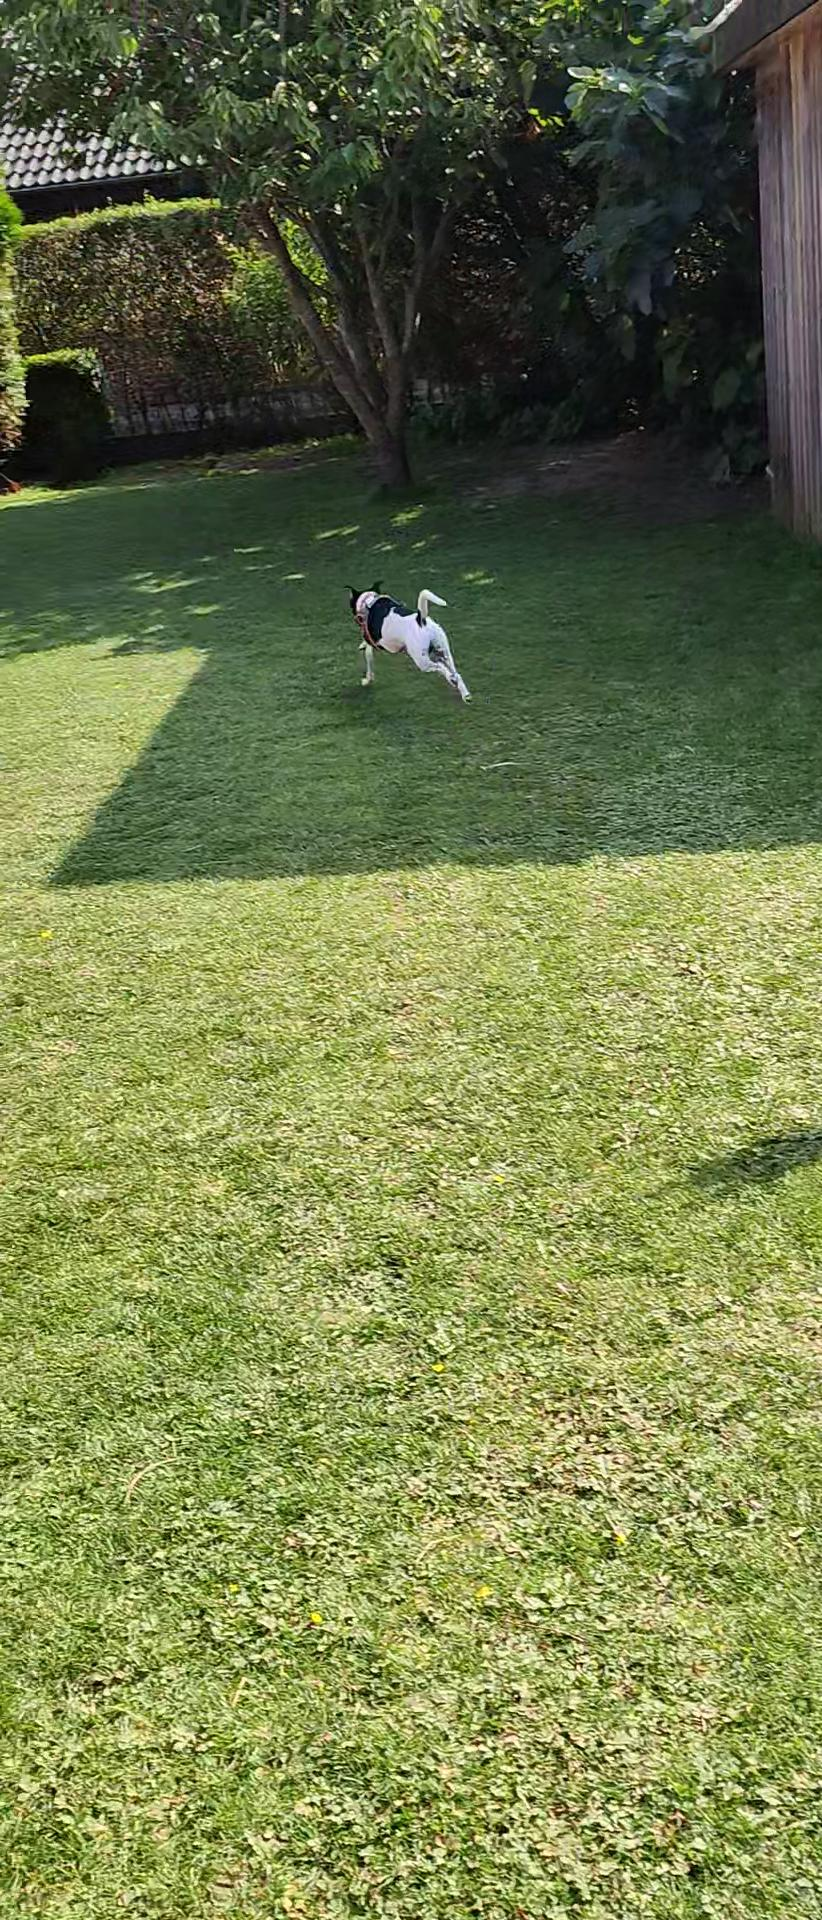Dog: (337, 572, 483, 709)
